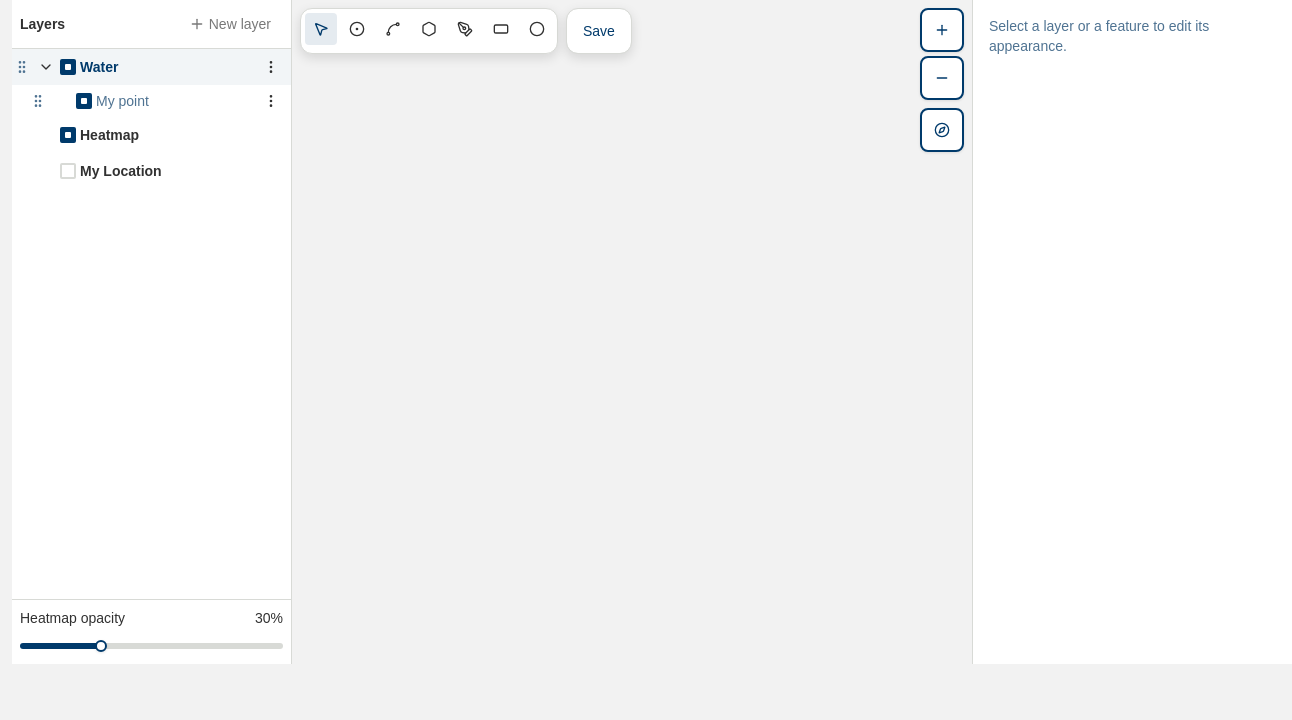
WorkspacePage › still allows selecting a feature from the tree while a drawing tool is active
Click the button named "Point".
click(357, 29)  # box [341, 13, 373, 45]
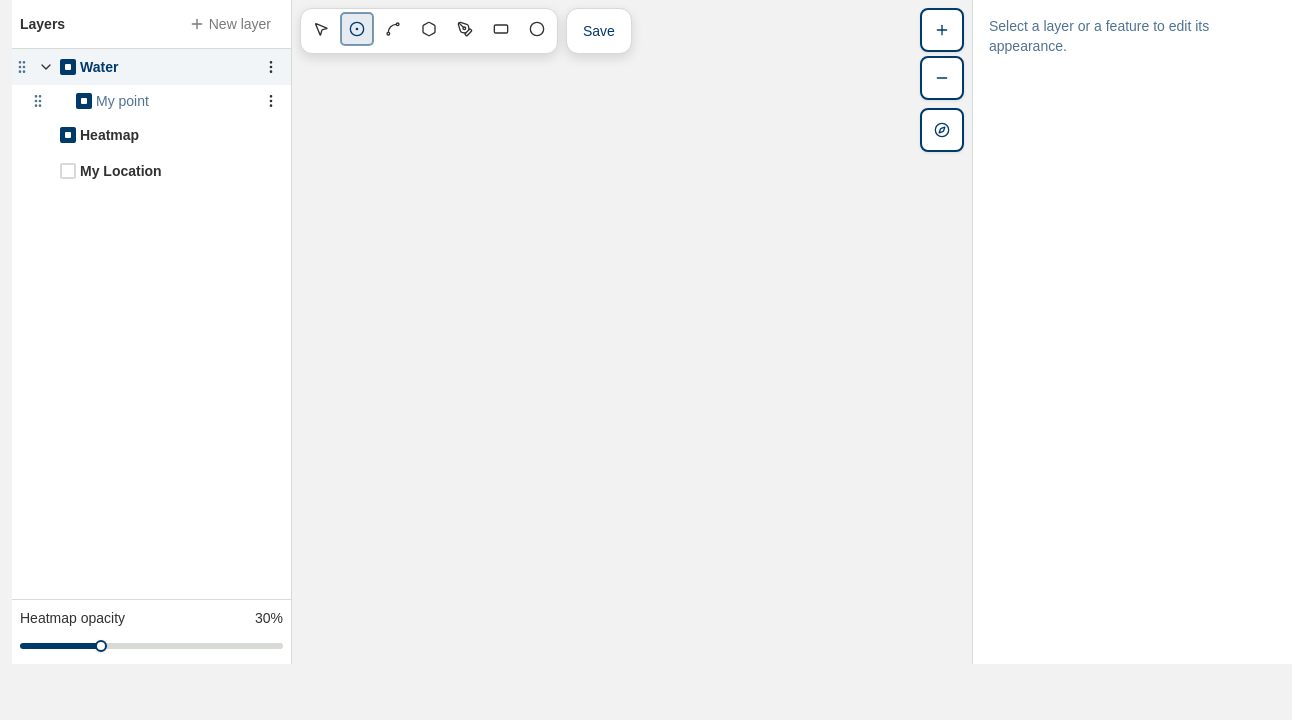
Click the button "My point".
click(176, 101)  # box [96, 91, 255, 111]
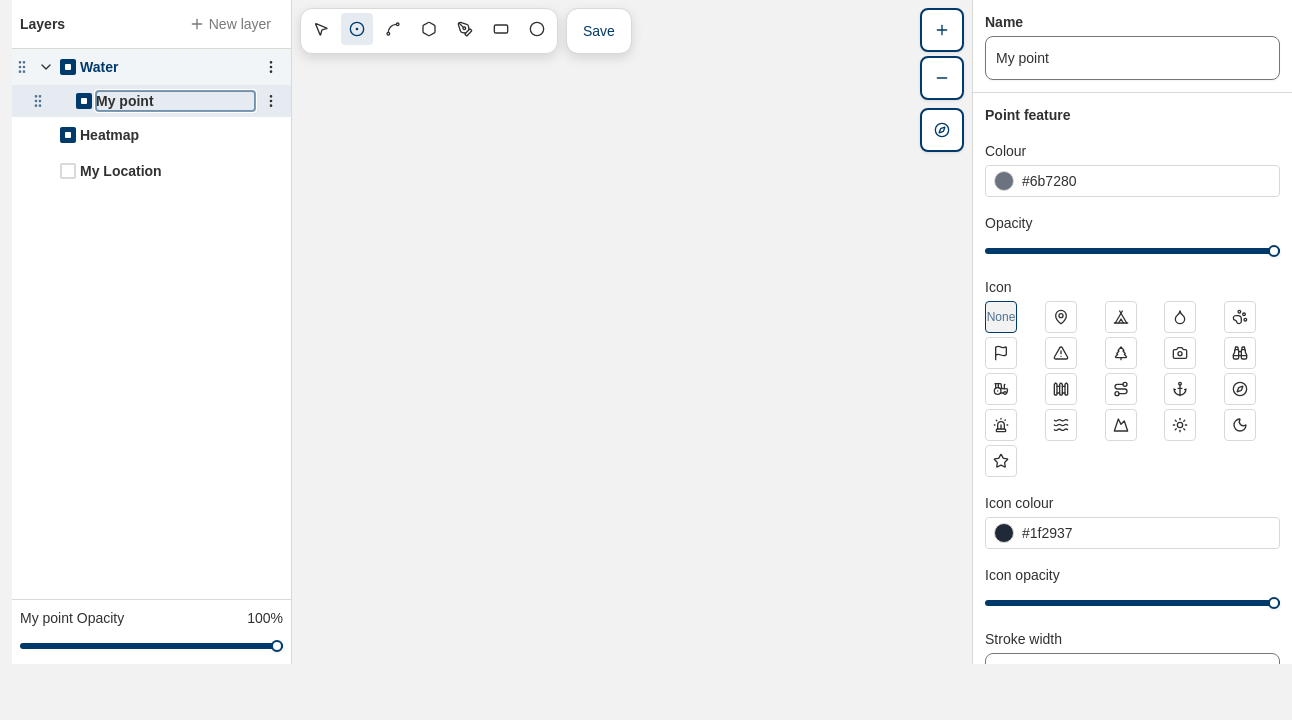
Result: the text "Point feature" is shown at [985, 107, 1071, 123]
